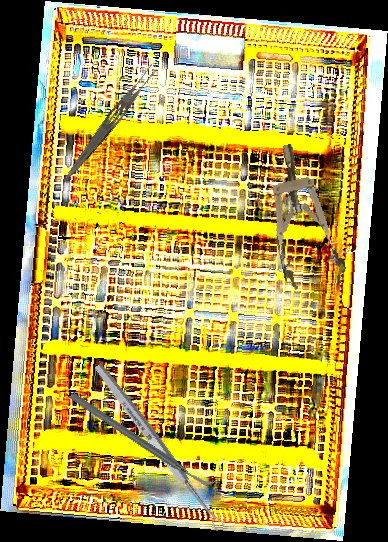Chopper: (68, 353, 219, 526)
Dressing Forceps: (64, 61, 161, 182)
Speculum: (257, 138, 349, 294)
Surgical Spoon: (92, 361, 226, 533)
